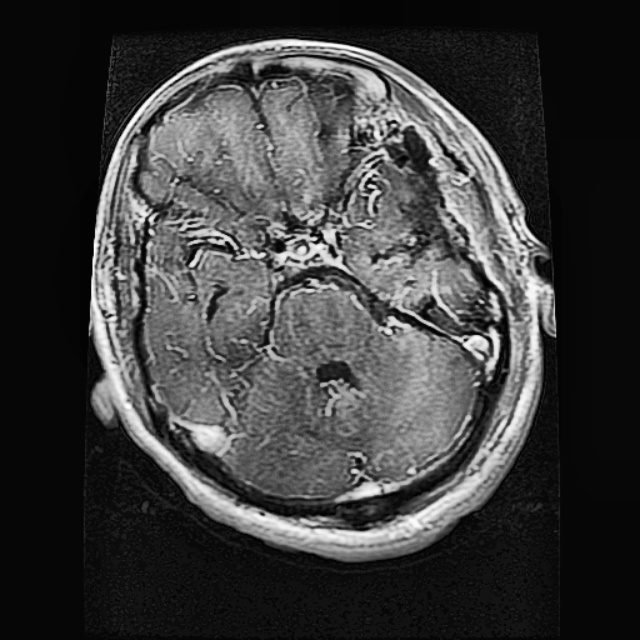Pituitary: (333, 123, 500, 333)
